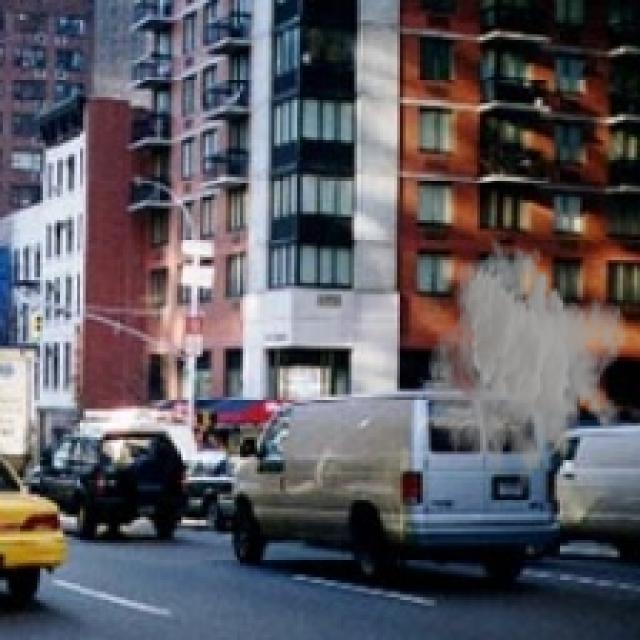smoke: (426, 234, 628, 500)
